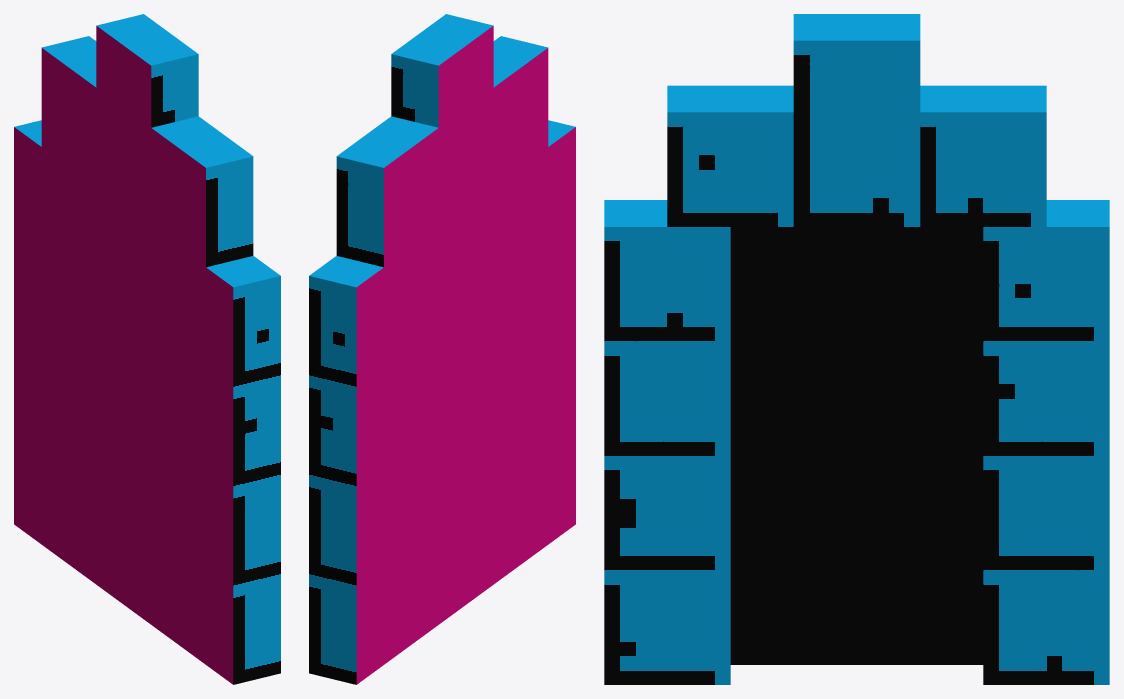
File: cmy_doorao.fezao.glb
The picture shows the model from 3 angles, left to right: view 1: azimuth 30°, elevation 25°; view 2: azimuth 150°, elevation 25°; view 3: azimuth 270°, elevation 25°; orthographic projection. The views are drawn at different scales.
Visible parts, largest first — view 1: CMY_doorAO; view 2: CMY_doorAO; view 3: CMY_doorAO.
Boxes of the visible parts, x1,y1,x2,y2 form: CMY_doorAO: (14, 14, 280, 684); CMY_doorAO: (309, 14, 575, 684); CMY_doorAO: (604, 14, 1109, 684).
Size of the model in its own units: 0.25 by 2.81 by 2.
Materials: 1 (1 with a texture image).
